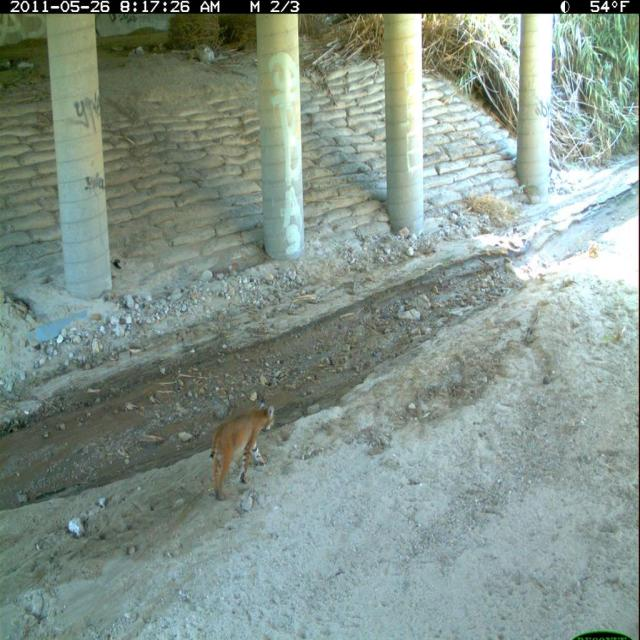bobcat: (206, 393, 278, 506)
